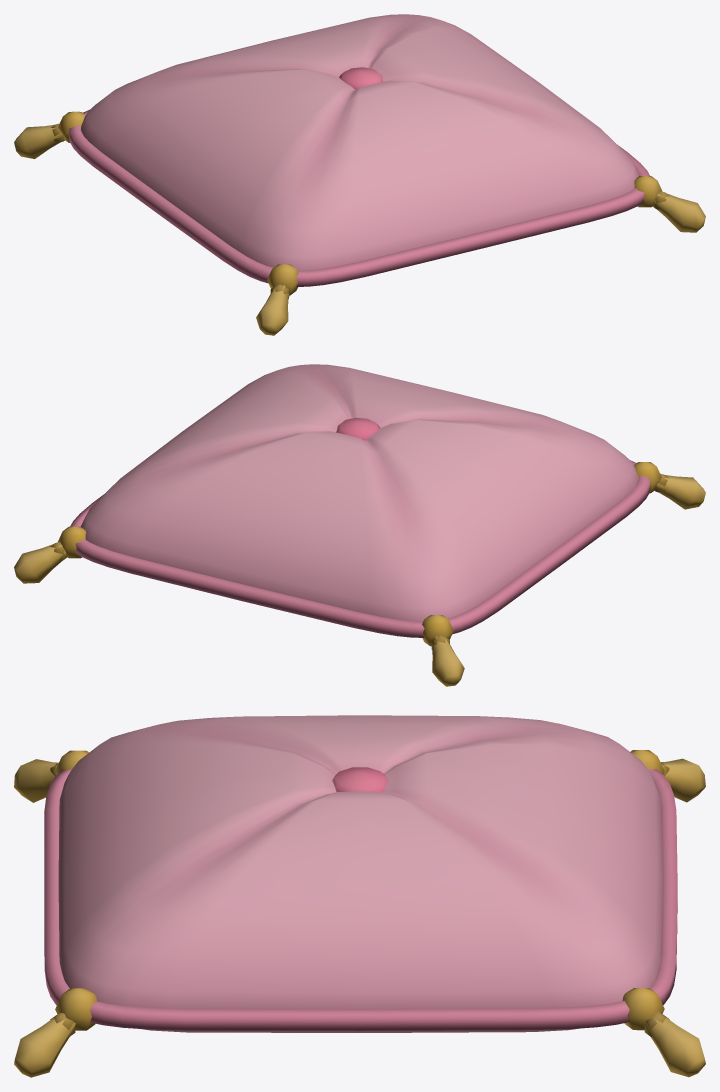
Rendered from furn-zabutonPink.glb.
3 renders of one model, top to bottom at view 1: azimuth 30°, elevation 25°; view 2: azimuth 150°, elevation 25°; view 3: azimuth 270°, elevation 25°, orthographic. The views are drawn at different scales.
Parts seen in each view (by area): view 1: cloth; view 2: cloth; view 3: cloth.
Boxes of the visible parts, x1,y1,x2,y2 form: cloth: (14, 14, 705, 335); cloth: (14, 364, 705, 686); cloth: (14, 715, 705, 1077).
Size of the model in its own units: 0.5021 by 0.1317 by 0.5015.
